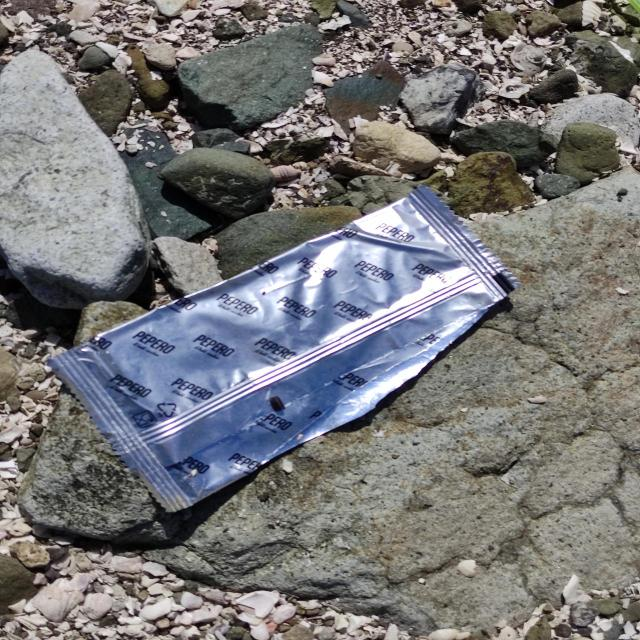plastic_waste: (47, 190, 523, 523)
